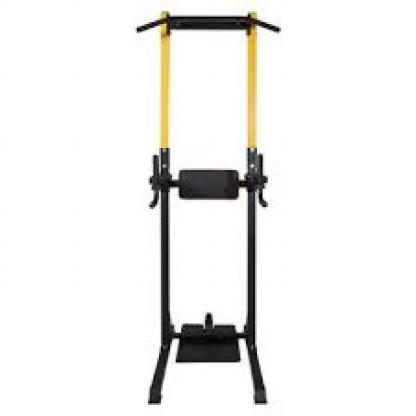chinning dipping: (136, 9, 283, 404)
